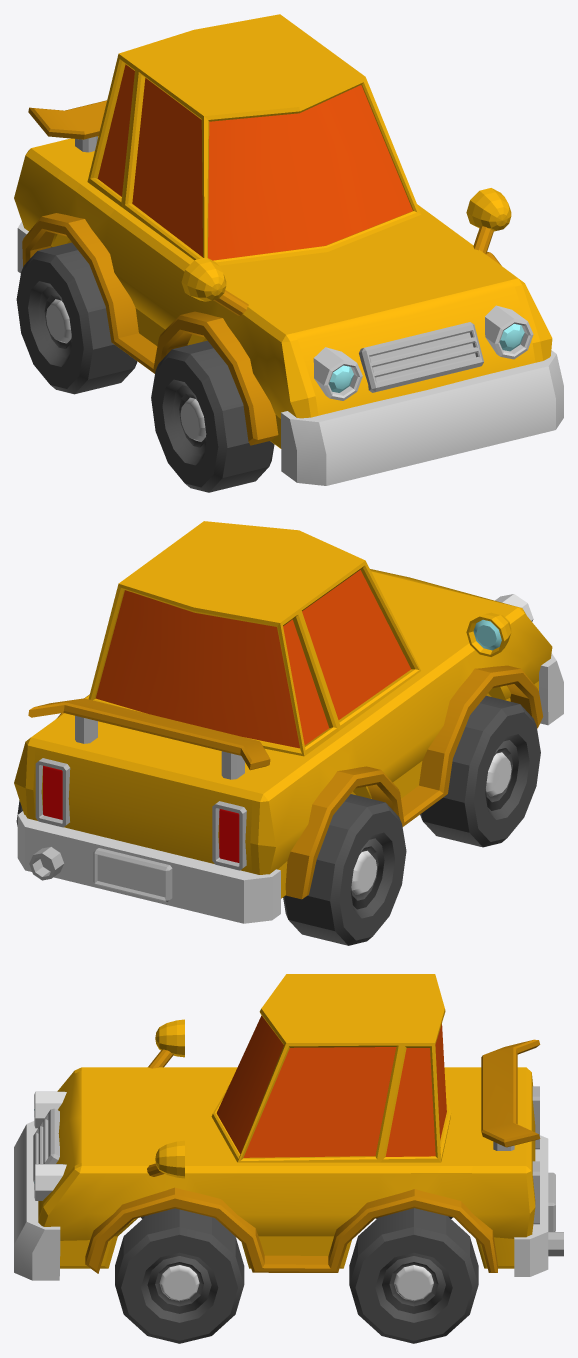
The model's file is platform3.fbx.
3 renders of one model, top to bottom at view 1: azimuth 30°, elevation 25°; view 2: azimuth 150°, elevation 25°; view 3: azimuth 270°, elevation 25°, orthographic. The views are drawn at different scales.
Parts seen in each view (by area): view 1: Jap.001; view 2: Jap.001; view 3: Jap.001.
Part boxes in pixels (x1,y1,x2,y2): Jap.001: [14, 14, 563, 492]; Jap.001: [14, 521, 563, 945]; Jap.001: [14, 974, 563, 1343].
Size of the model in its own units: 1.56 by 1.43 by 2.64.
